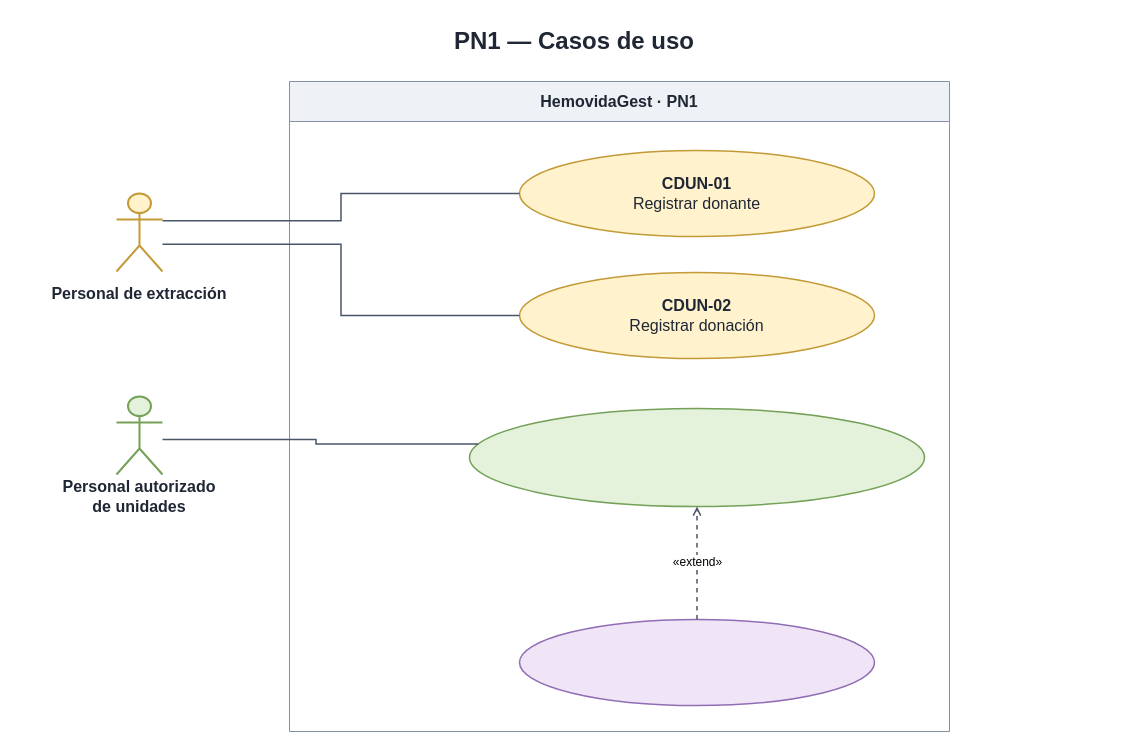
Some shapes in this 1148 by 749 pixel diagram are drawn without their labels. The shapes that lost their labels are listed below. From the top down, each one's centre as x and y in pixels, then its label:
pixel 696 457: CDUN-03 Clasificar estado de unidad
pixel 696 662: CDUN-04 Emitir comprobante de donación
